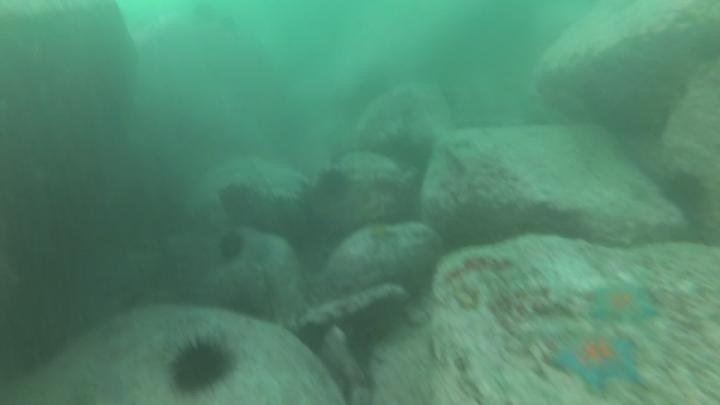echinus: (163, 331, 239, 399), (436, 198, 507, 254), (659, 168, 709, 215), (216, 181, 262, 225), (314, 166, 354, 205), (290, 319, 330, 358), (215, 229, 248, 265)
starfish: (546, 329, 648, 397), (585, 277, 662, 330), (364, 219, 399, 247)
